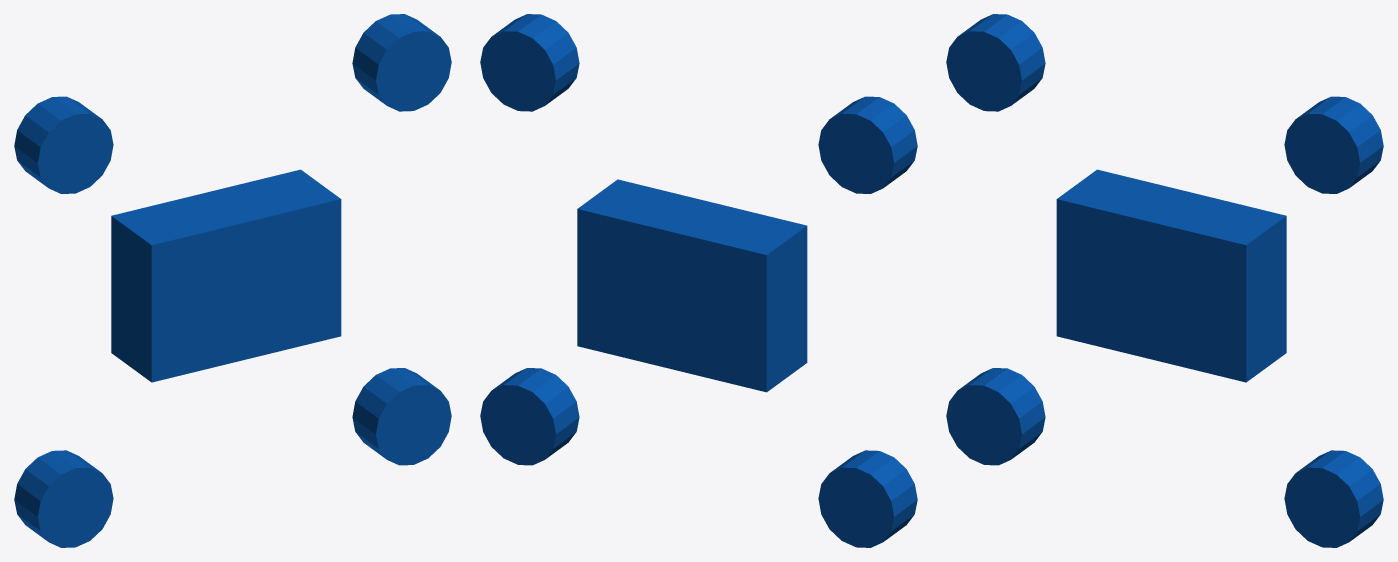
Rendered from blue.obj.
3 renders of one model, left to right at view 1: azimuth 30°, elevation 25°; view 2: azimuth 150°, elevation 25°; view 3: azimuth 330°, elevation 25°, orthographic.
Parts seen in each view (by area): view 1: geometry; view 2: geometry; view 3: geometry.
Boxes of the visible parts, left/top/right/bottom form: geometry: left=14, top=14, right=451, bottom=547; geometry: left=480, top=14, right=917, bottom=547; geometry: left=946, top=14, right=1383, bottom=547.
Bounding box in the file's own units: 1.42 × 1.42 × 0.24.
